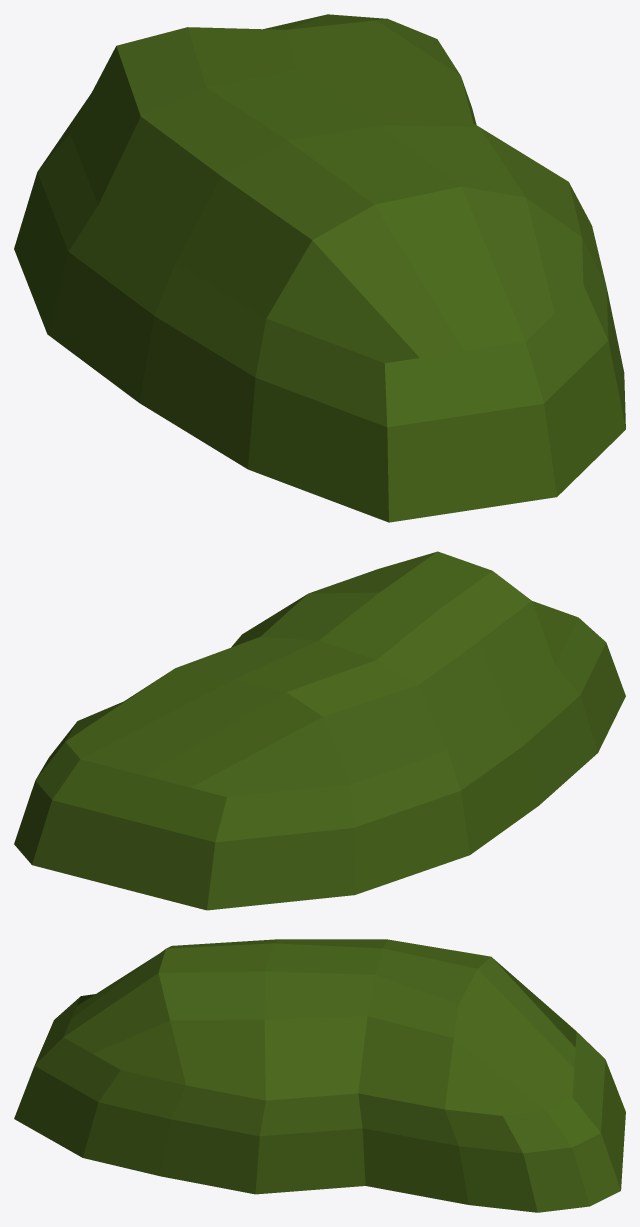
Rendered from Hill.fbx.
3 renders of one model, top to bottom at view 1: azimuth 30°, elevation 25°; view 2: azimuth 150°, elevation 25°; view 3: azimuth 270°, elevation 25°, orthographic. The views are drawn at different scales.
Visible parts, largest first — view 1: Hill; view 2: Hill; view 3: Hill.
Boxes of the visible parts, <box> form: Hill: <box>14,14,625,522</box>; Hill: <box>14,551,625,910</box>; Hill: <box>14,939,625,1212</box>.
Bounding box in the file's own units: 14.82 × 6.42 × 23.4.
